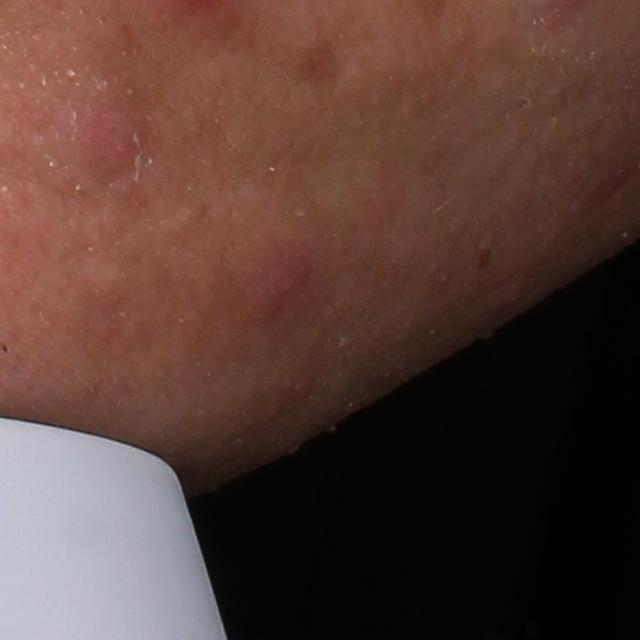hypertrophic_scar: (79, 258, 134, 292)
papule: (47, 89, 152, 182), (236, 243, 309, 326)
